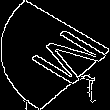M_SE: (7, 21, 103, 89)
